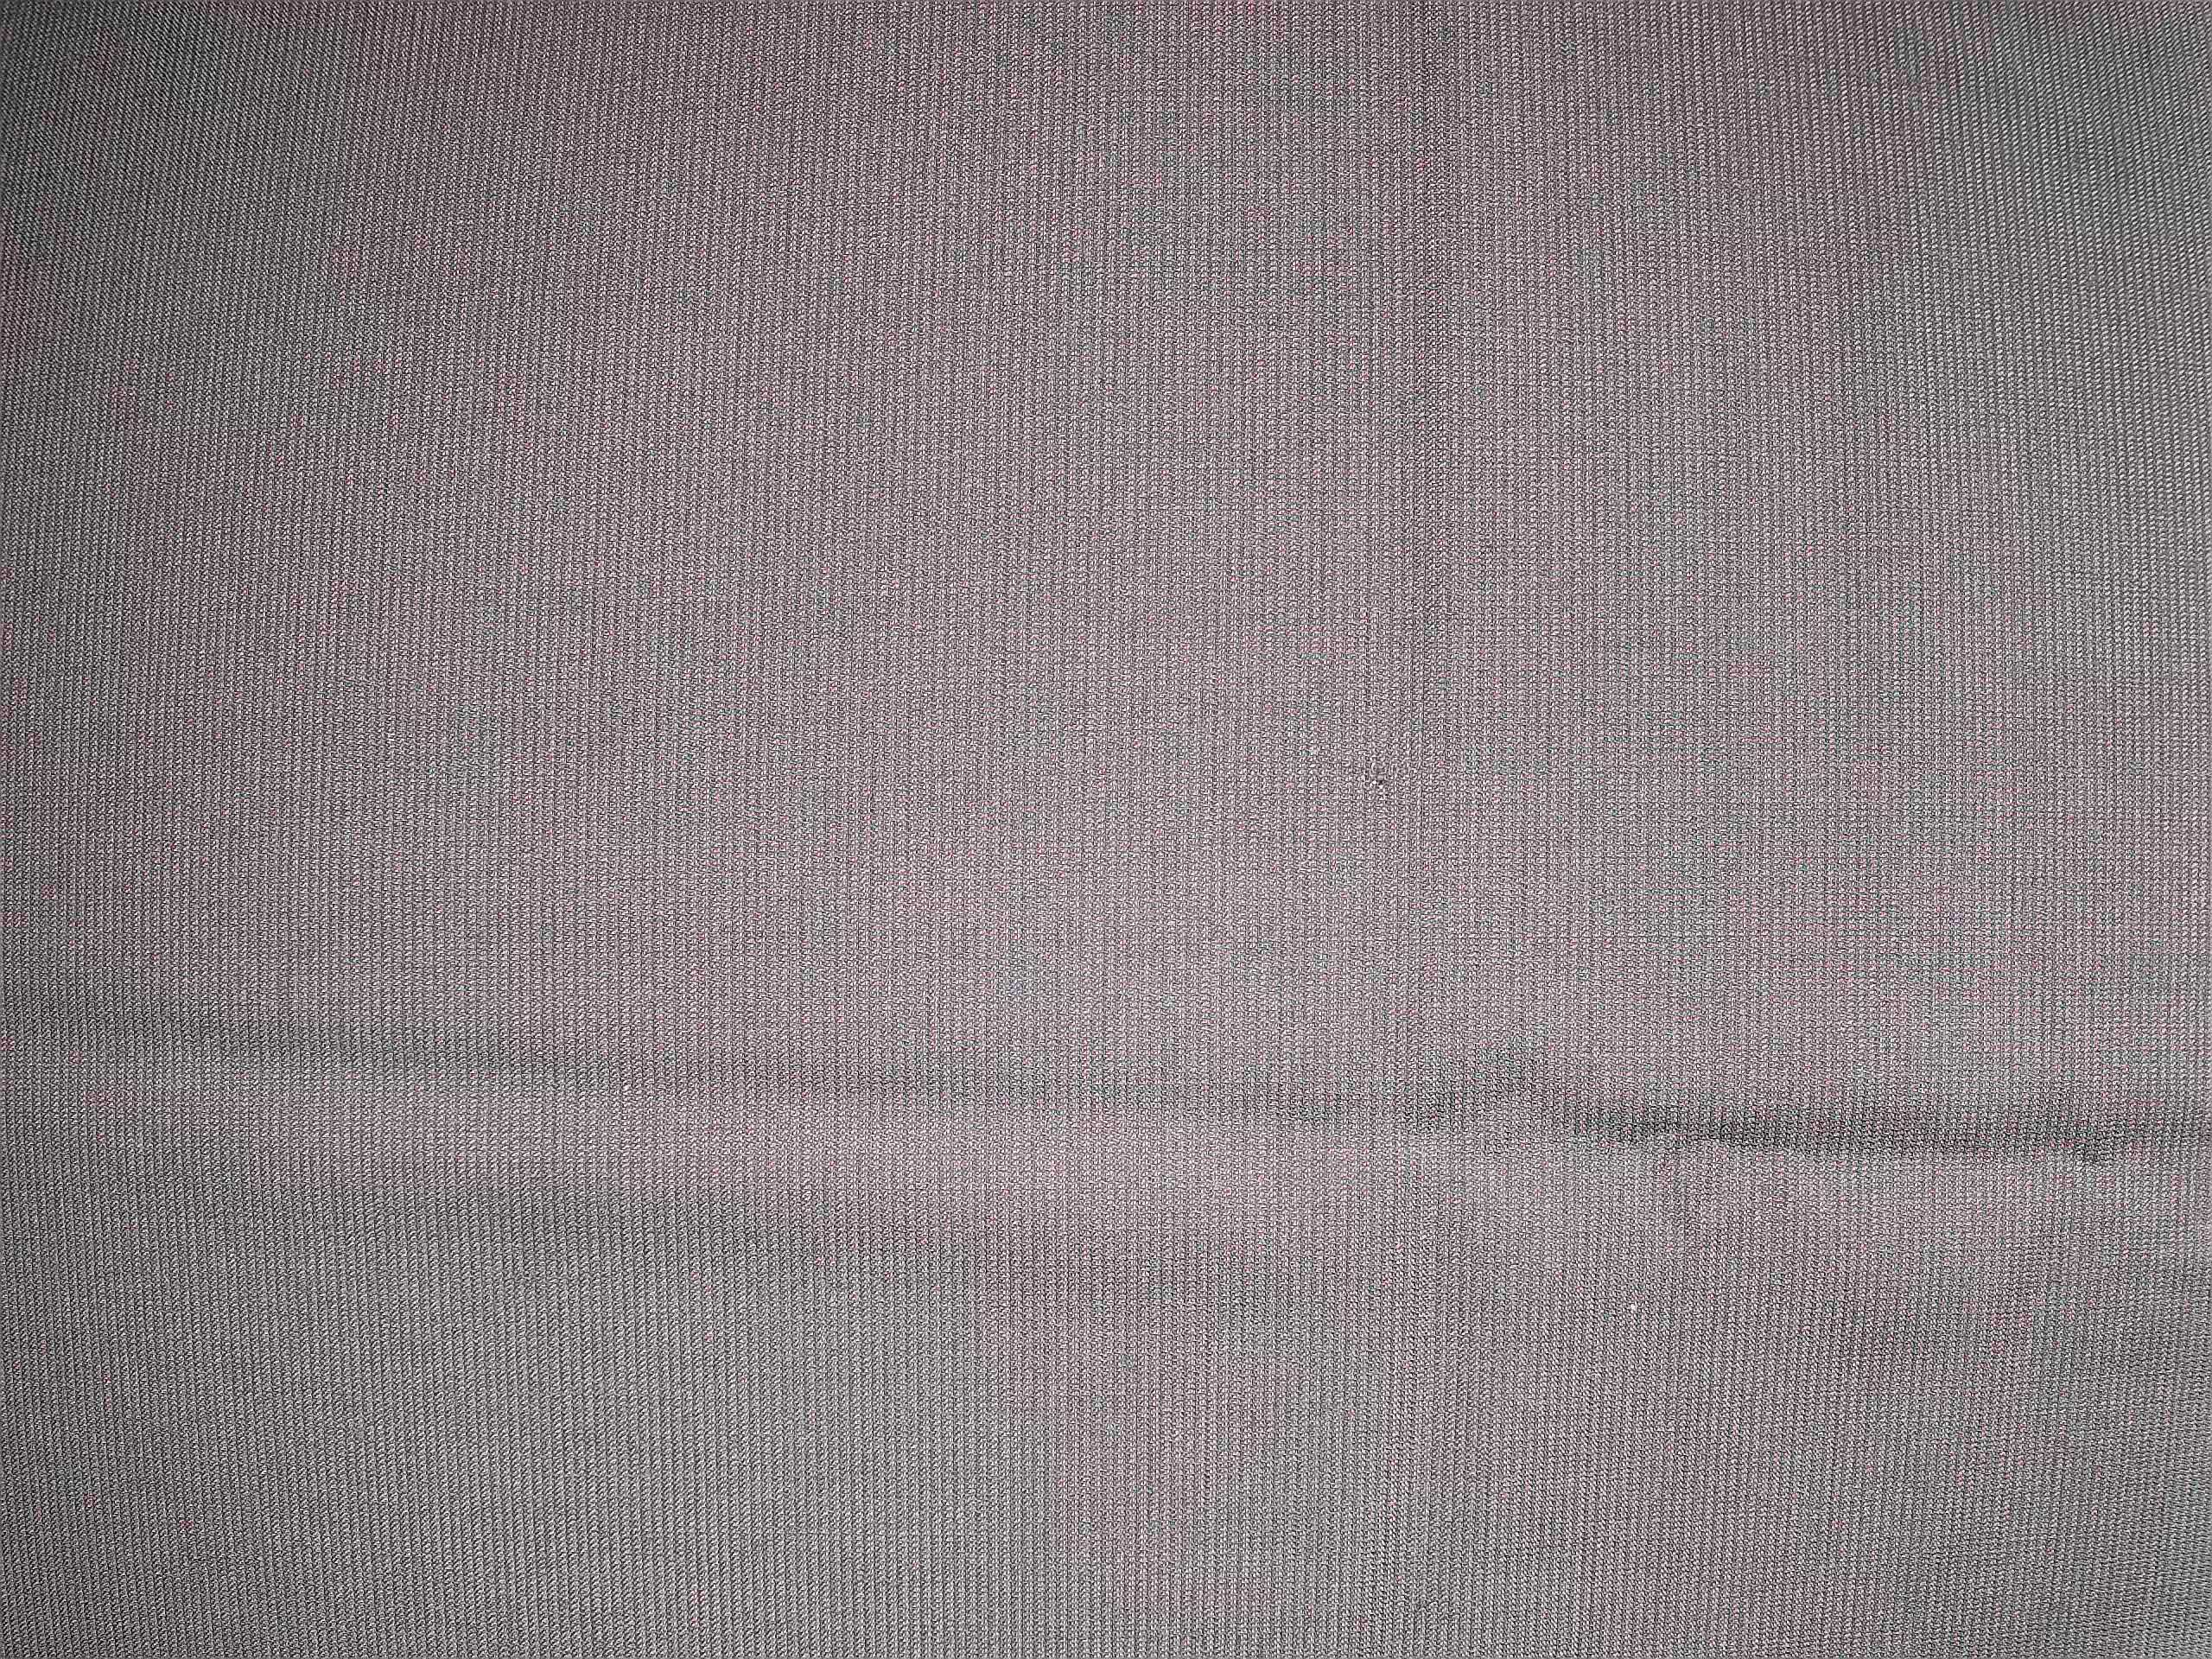jumps: (1313, 734, 1430, 819)
